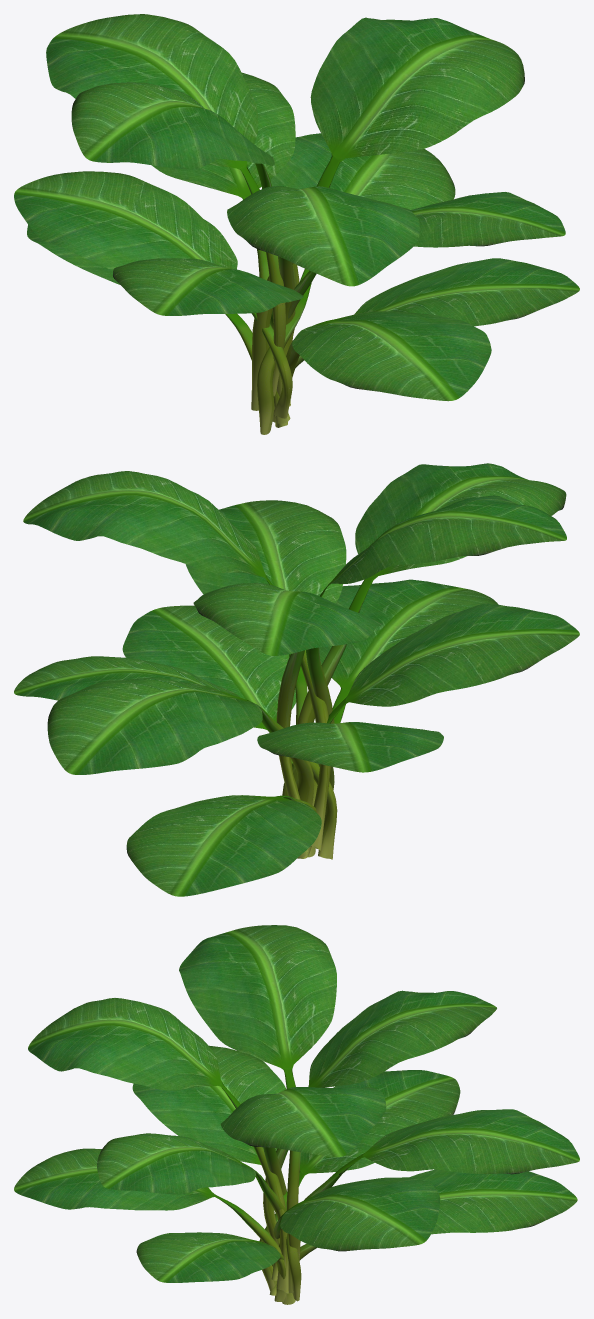
File: bush.obj
3 views of the same model, one above another, from view 1: azimuth 30°, elevation 25°; view 2: azimuth 150°, elevation 25°; view 3: azimuth 270°, elevation 25° (orthographic). The views are drawn at different scales.
Parts seen in each view (by area): view 1: Цилиндр.009, Цилиндр.010, Цилиндр.004, Цилиндр.001, Цилиндр.007, Цилиндр.008, Цилиндр.005, Цилиндр.003, Цилиндр.002, Цилиндр.011, Цилиндр.006, Цилиндр; view 2: Цилиндр.006, Цилиндр.009, Цилиндр, Цилиндр.002, Цилиндр.008, Цилиндр.011, Цилиндр.010, Цилиндр.007, Цилиндр.005, Цилиндр.001, Цилиндр.004, Цилиндр.003; view 3: Цилиндр.008, Цилиндр.007, Цилиндр.006, Цилиндр.010, Цилиндр.003, Цилиндр.009, Цилиндр.011, Цилиндр.002, Цилиндр, Цилиндр.001, Цилиндр.004, Цилиндр.005.
Boxes of the visible parts, bbox=[...] form: Цилиндр.009: bbox=[251, 17, 524, 410]; Цилиндр.010: bbox=[46, 14, 285, 396]; Цилиндр.004: bbox=[14, 171, 292, 418]; Цилиндр.001: bbox=[275, 311, 491, 427]; Цилиндр.007: bbox=[227, 186, 419, 406]; Цилиндр.008: bbox=[71, 82, 299, 333]; Цилиндр.005: bbox=[273, 258, 579, 423]; Цилиндр.003: bbox=[257, 133, 455, 434]; Цилиндр.002: bbox=[113, 258, 303, 329]; Цилиндр.011: bbox=[276, 192, 565, 397]; Цилиндр.006: bbox=[152, 72, 295, 280]; Цилиндр: bbox=[27, 219, 275, 422]; Цилиндр.006: bbox=[47, 677, 314, 804]; Цилиндр.009: bbox=[23, 471, 330, 850]; Цилиндр: bbox=[126, 795, 321, 896]; Цилиндр.002: bbox=[282, 603, 579, 858]; Цилиндр.008: bbox=[276, 495, 566, 799]; Цилиндр.011: bbox=[185, 500, 346, 724]; Цилиндр.010: bbox=[193, 583, 382, 805]; Цилиндр.007: bbox=[297, 463, 566, 787]; Цилиндр.005: bbox=[122, 605, 296, 763]; Цилиндр.001: bbox=[308, 579, 498, 857]; Цилиндр.004: bbox=[257, 722, 443, 789]; Цилиндр.003: bbox=[14, 656, 337, 859]; Цилиндр.008: bbox=[179, 925, 336, 1260]; Цилиндр.007: bbox=[28, 998, 288, 1293]; Цилиндр.006: bbox=[288, 1109, 579, 1292]; Цилиндр.010: bbox=[263, 990, 496, 1245]; Цилиндр.003: bbox=[272, 1177, 440, 1266]; Цилиндр.009: bbox=[220, 1087, 386, 1195]; Цилиндр.011: bbox=[97, 1133, 286, 1280]; Цилиндр.002: bbox=[132, 1045, 301, 1301]; Цилиндр: bbox=[282, 1169, 577, 1304]; Цилиндр.001: bbox=[14, 1148, 286, 1302]; Цилиндр.004: bbox=[259, 1070, 460, 1290]; Цилиндр.005: bbox=[136, 1232, 283, 1295].
Size of the model in its own units: 4.76 by 3.56 by 6.01.
1 material, 1 textured.
